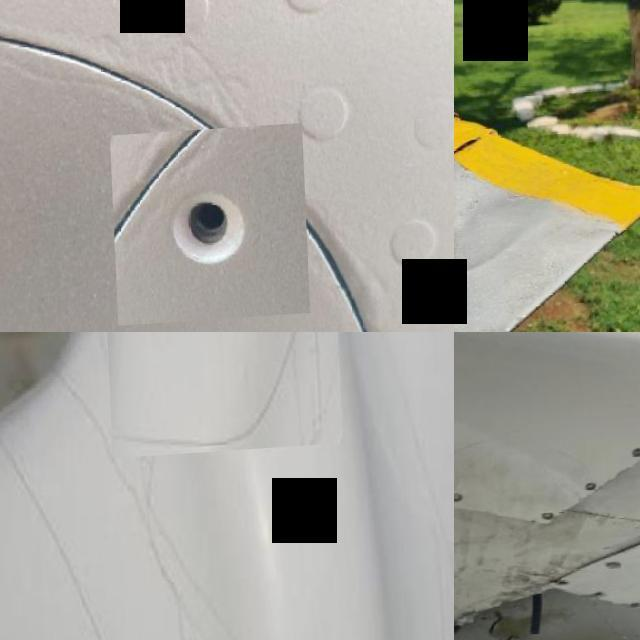Crack: (45, 363, 184, 640), (108, 332, 301, 459), (0, 429, 102, 640)
Missing_Fastener: (108, 130, 306, 330), (536, 514, 555, 528), (577, 486, 598, 497), (626, 451, 640, 465), (550, 584, 568, 594), (590, 594, 602, 606), (454, 495, 464, 508), (626, 608, 640, 615)
